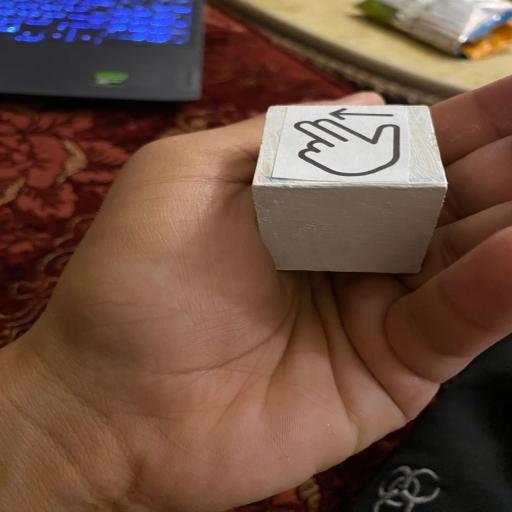LeftSwipe: (246, 100, 454, 276)
